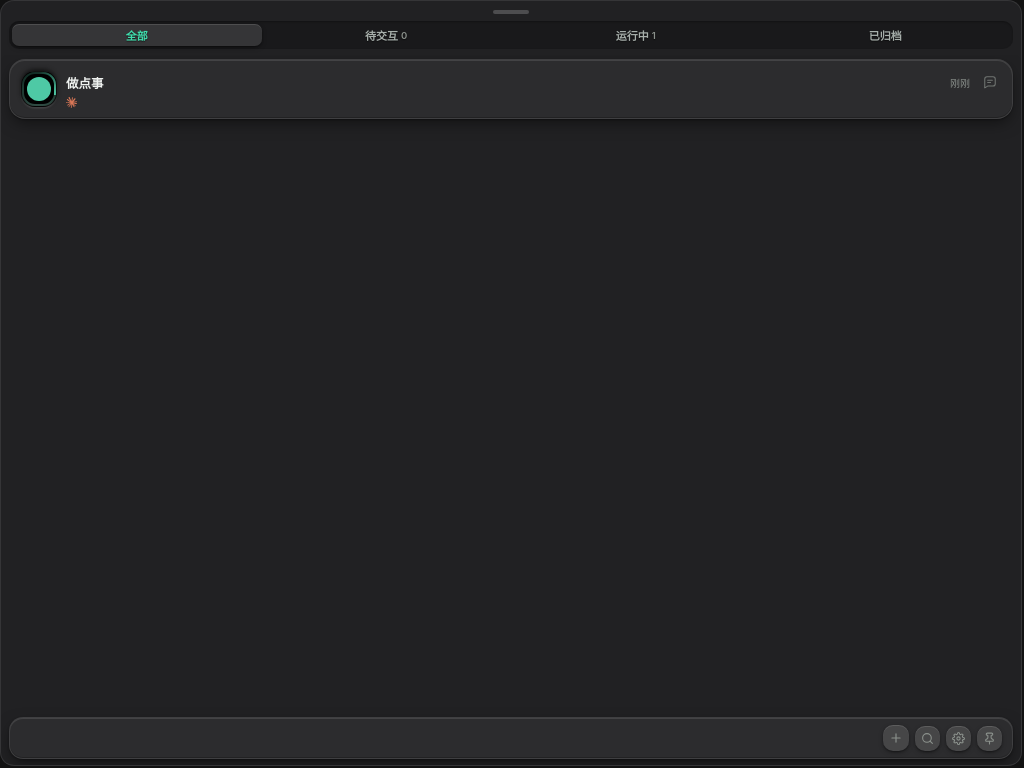
Sticker › 右键菜单星标切换状态并持久化到 localStorage,操作后菜单关闭
The width and height of the screenshot is (1024, 768).
Right-click the button with class "stk-card": (39, 89) x1=9 y1=59 x2=1013 y2=119
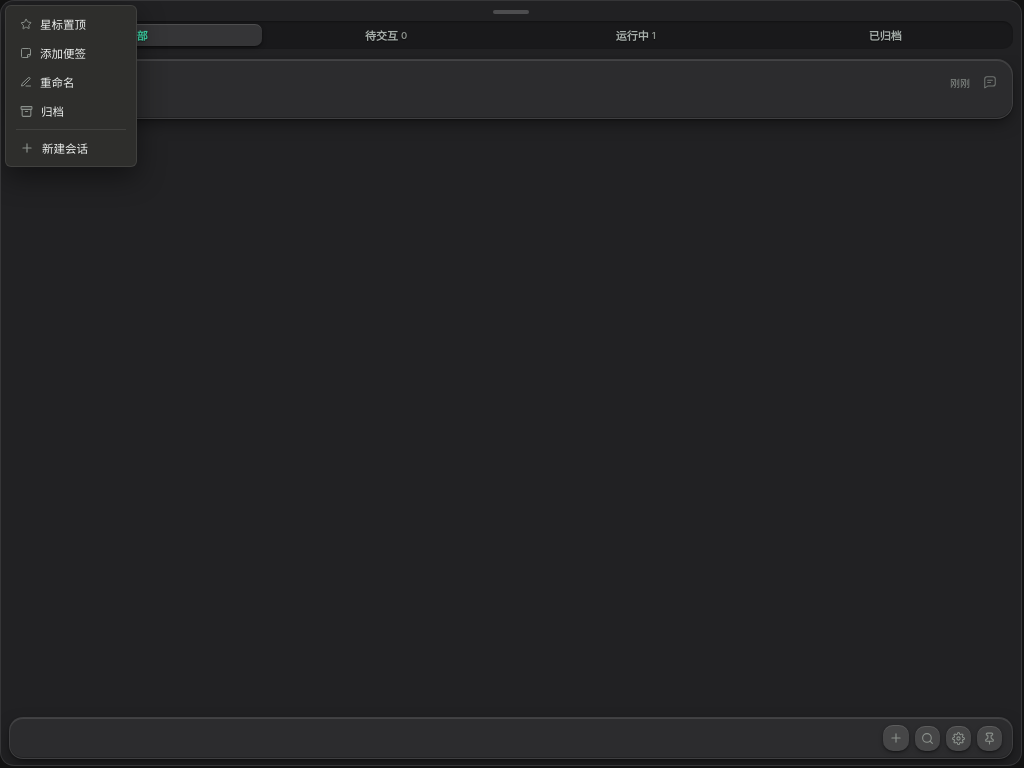
Click the menu item "星标置顶": (71, 24) x1=10 y1=10 x2=132 y2=38
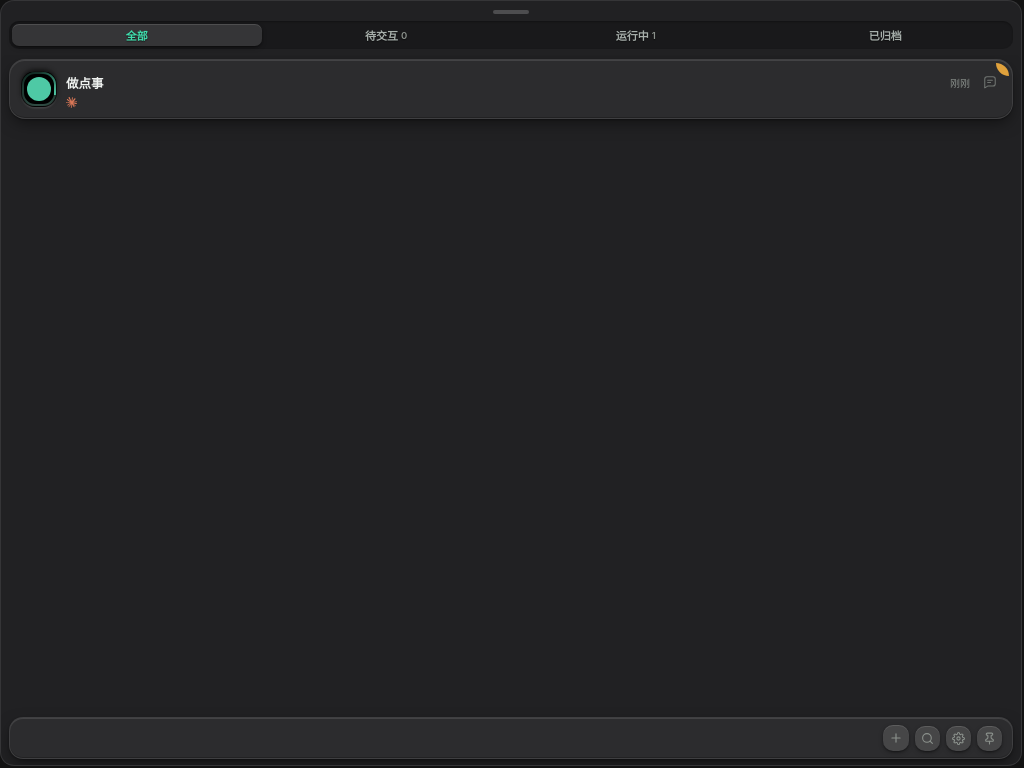
Expected: the button with class "stk-card" is shown, x1=9 y1=59 x2=1013 y2=119
Expected: the menu with class "ctx-menu" is gone
